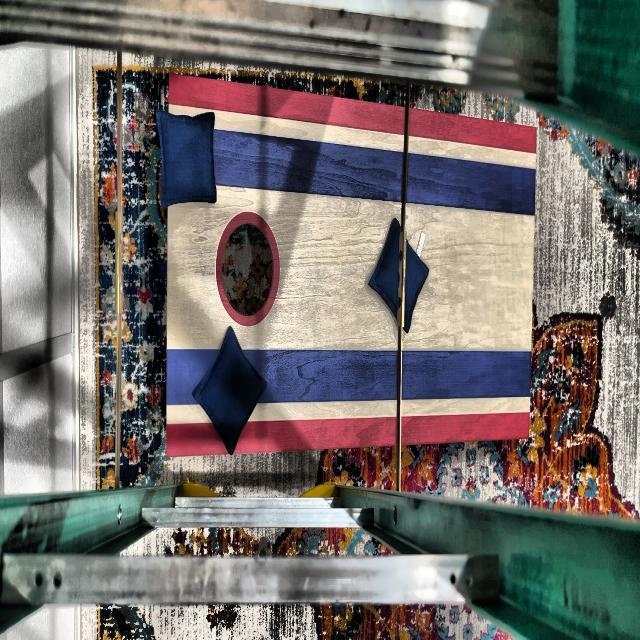blue-bean-bag: (192, 328, 266, 456), (369, 219, 429, 332), (156, 110, 216, 206)
board: (167, 128, 528, 436)
hole: (214, 210, 280, 327)
